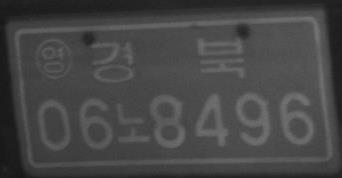0: (36, 98, 72, 151)
4: (194, 92, 229, 149)
6: (278, 90, 316, 147), (78, 96, 114, 150)
8: (150, 92, 186, 149)
9: (234, 91, 270, 148)
경북_D: (92, 35, 246, 83)
노: (116, 101, 150, 144)
영: (34, 37, 73, 80)
